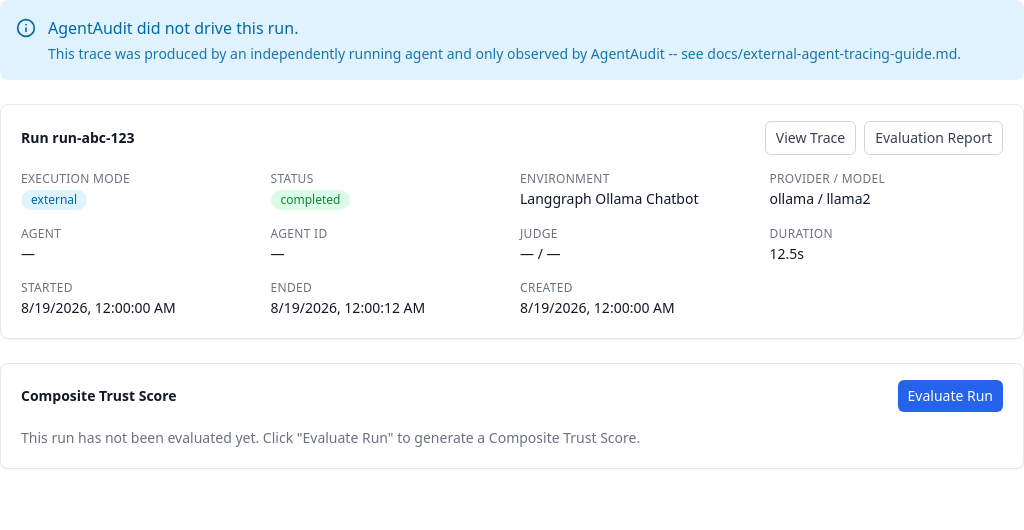
RunDetailsPage Judge field › updates the Judge field after clicking Evaluate Run, without a page reload
The width and height of the screenshot is (1024, 530).
Expected: the text "— / —" is shown, left=520, top=244, right=560, bottom=263
What coordinates should you click on to do the following:
click the button "Evaluate Run"
I would click on:
 (950, 396)
Its box is left=898, top=380, right=1003, bottom=412.
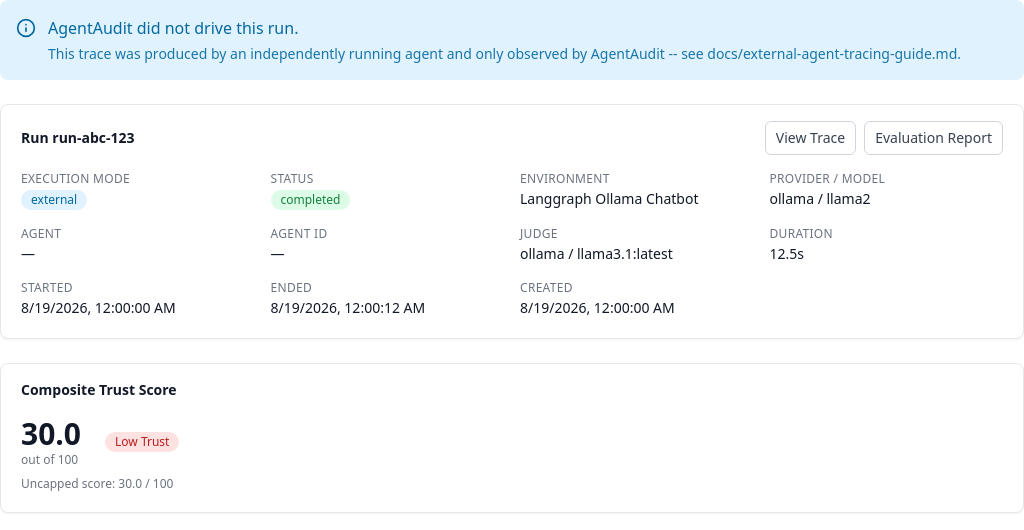
Now the text "ollama / llama3.1:latest" is shown, box left=520, top=244, right=673, bottom=263
Now the text "— / —" is gone
